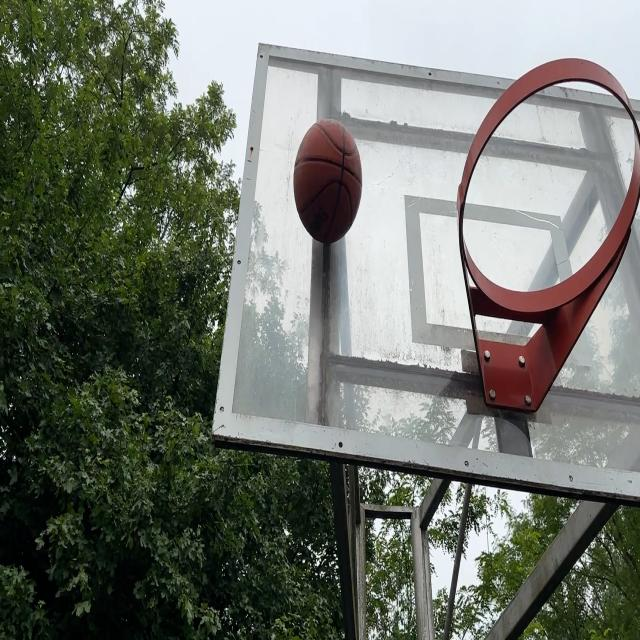rebound_hit: (292, 118, 362, 243)
